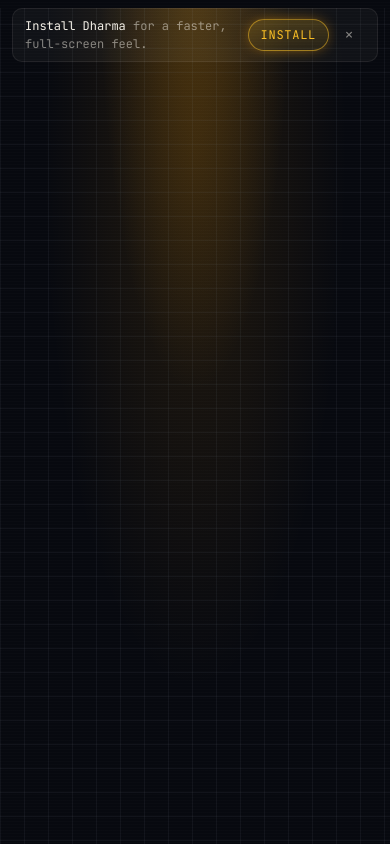
Test: InstallPrompt › dismiss button hides the pill and stamps the dismiss key
Click the button with test id "install-prompt-dismiss" at point(349, 35), box left=333, top=19, right=365, bottom=51
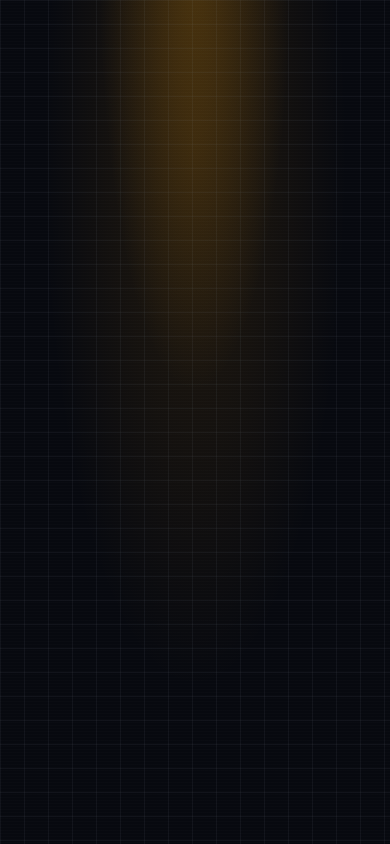
Expected: the element with test id "install-prompt" is gone
